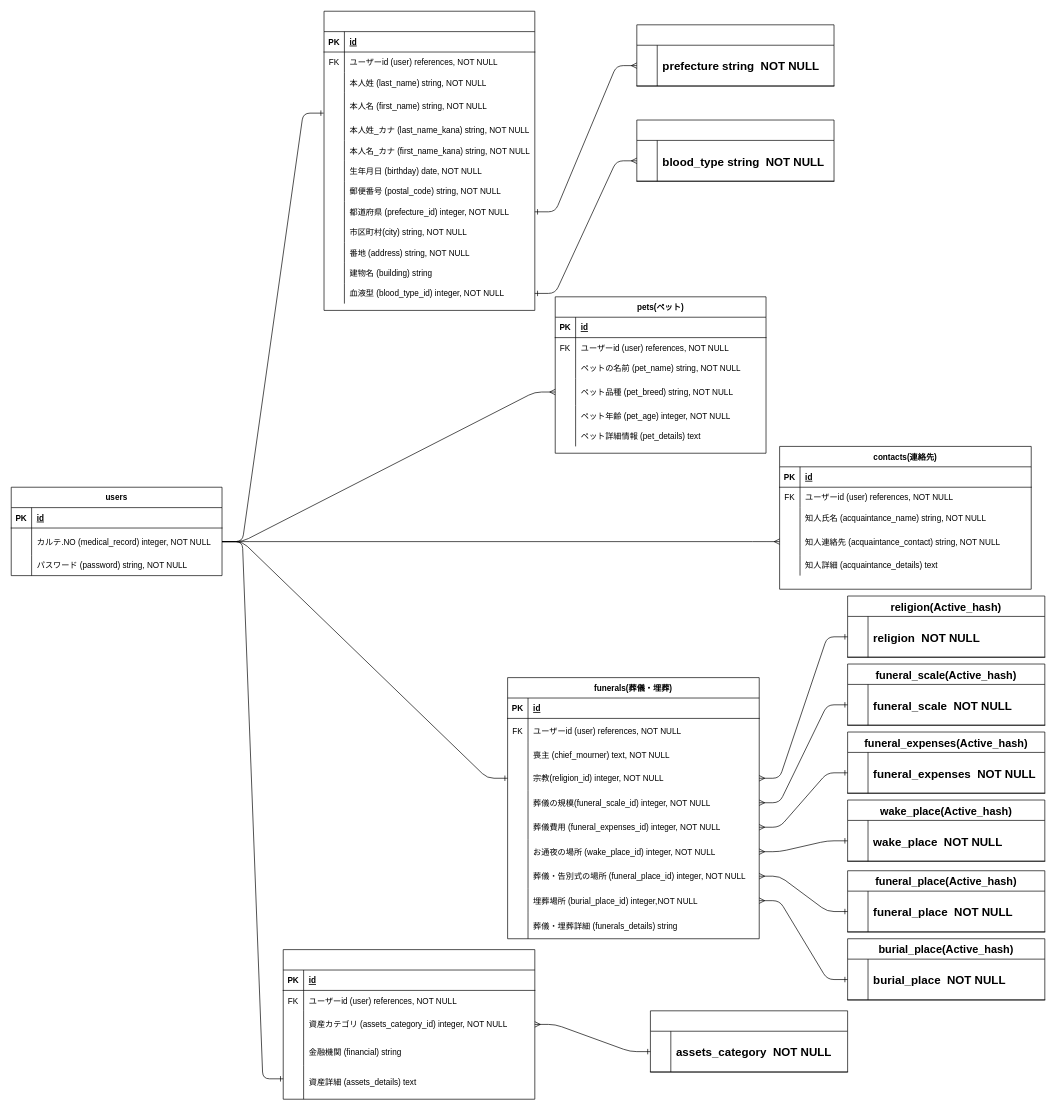
Image size: 1056x1110. Some labels were removed from this diagram. Here are the shapes that lost their labels. From the top down, the box of each, then its label:
(636, 24, 834, 86): prefecture(Active_hash)
(323, 11, 535, 310): basic_information(基本情報)
(636, 119, 834, 181): blood_type(Active_hash)
(283, 949, 535, 1099): assets(資産)
(650, 1010, 848, 1072): assets_category(Active_hash)
